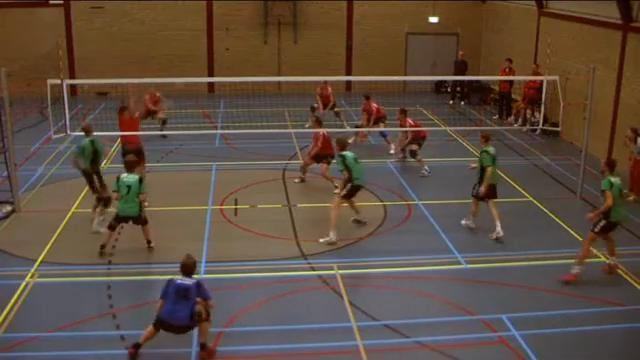attacco: (53, 116, 115, 240)
